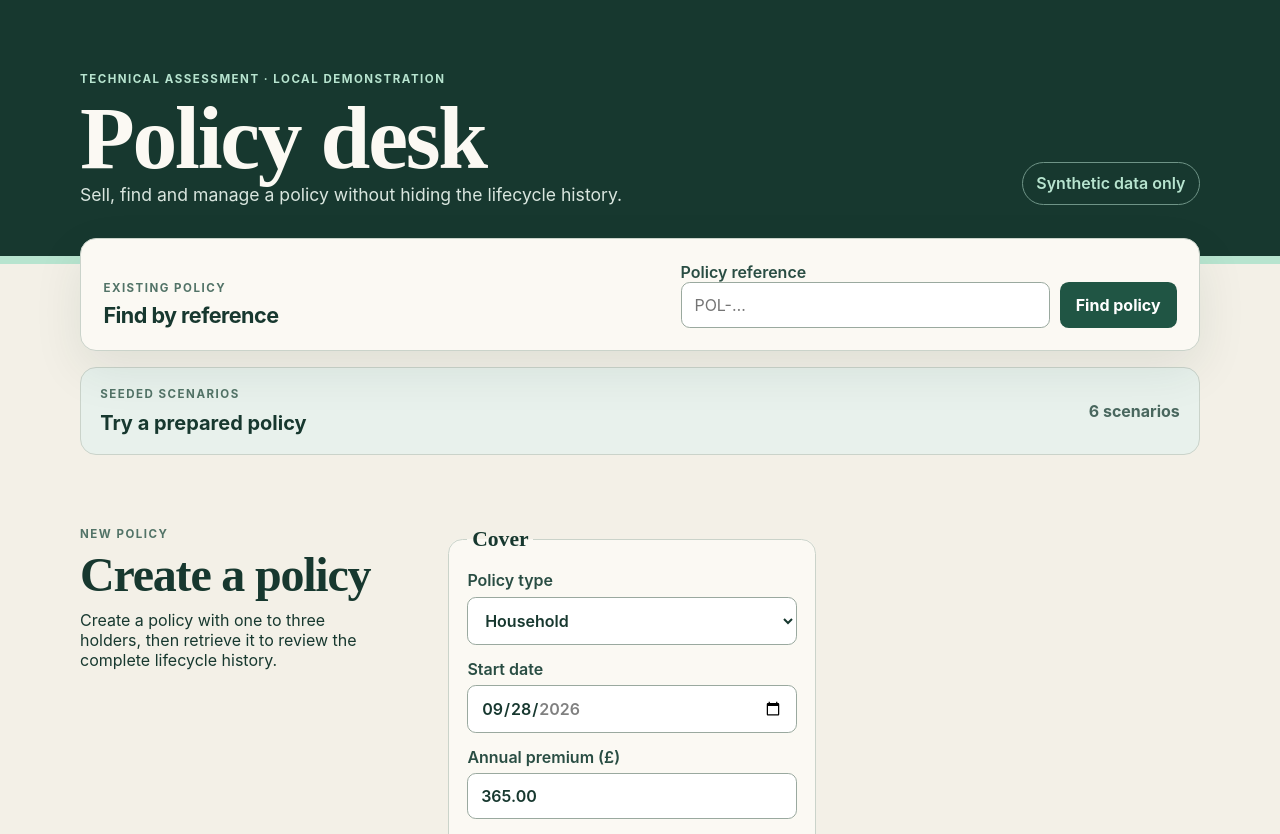
Scenario: policy desk › shows an informative API error in a live alert
Type "POL-MISSING" into the field labelled "Policy reference".
click(865, 305); type("POL-MISSING")  # box [681,282,1050,328]
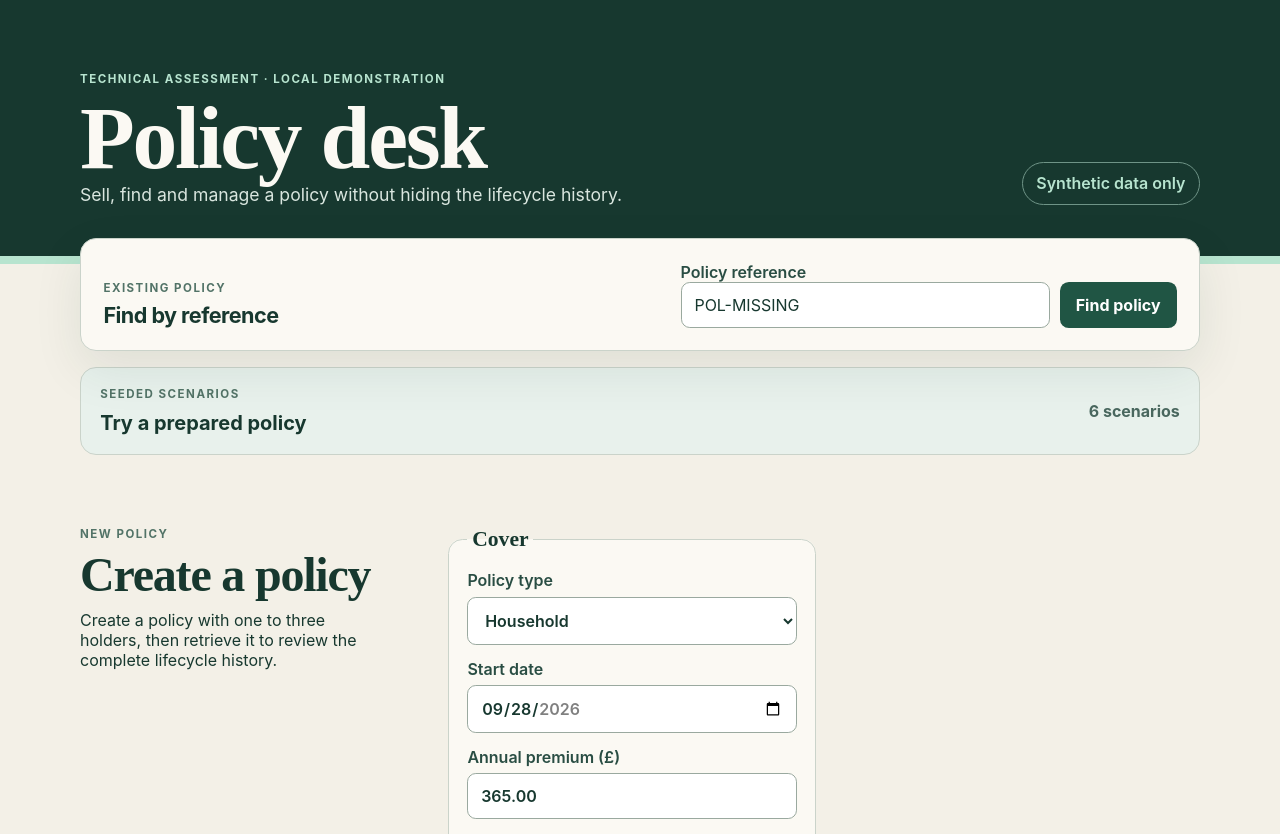
Click the button "Find policy".
click(1118, 305)  # box [1060,282,1177,328]
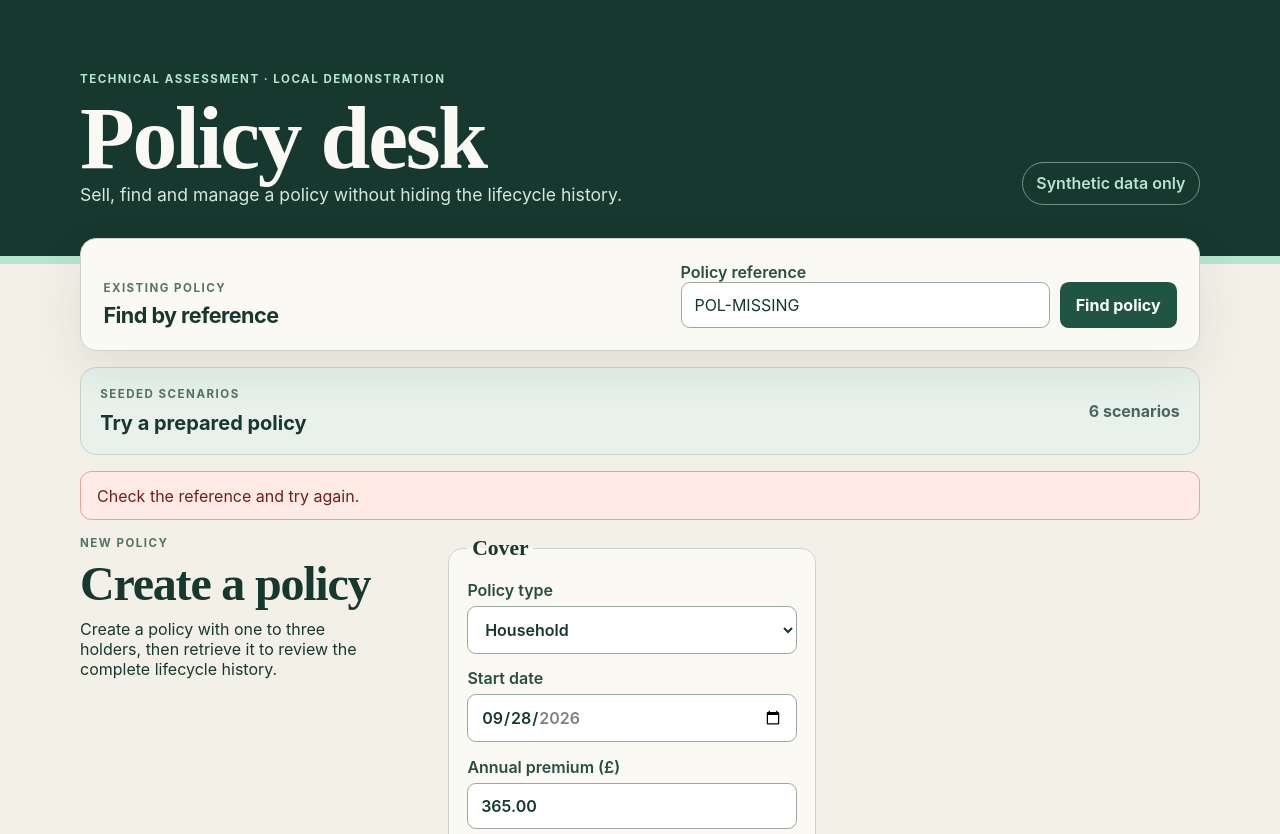
Expected: the message reads "Check the reference and try again.", [97,486,359,506]
